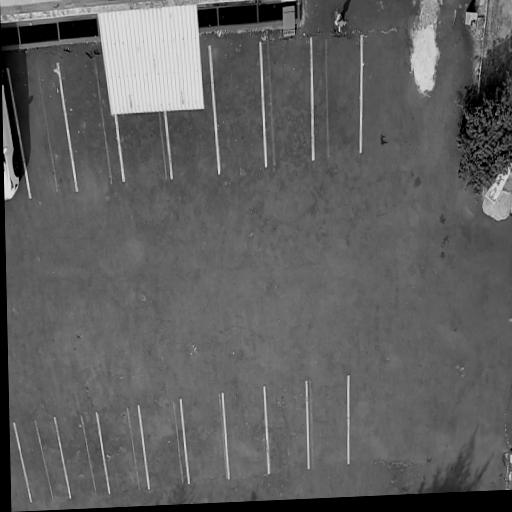Car: (2, 51, 28, 212)
Space Available: (7, 65, 77, 200), (58, 57, 123, 189), (211, 42, 267, 175), (262, 39, 313, 171), (312, 39, 362, 158), (15, 418, 70, 506), (97, 405, 149, 495), (55, 414, 109, 500), (117, 110, 173, 186), (139, 405, 189, 489), (264, 383, 309, 475), (182, 395, 228, 484), (224, 389, 269, 479), (306, 377, 349, 468), (167, 109, 219, 177), (9, 420, 31, 507)
